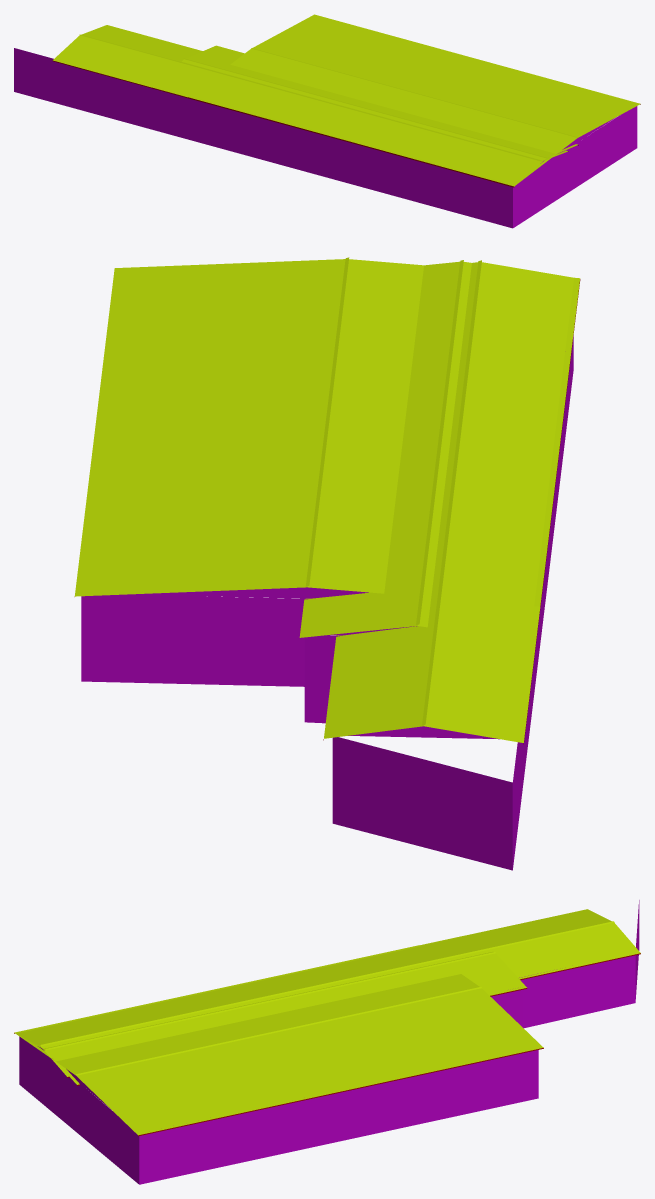
Rendered from niv_3.glb.
3 renders of one model, top to bottom at view 1: azimuth 30°, elevation 25°; view 2: azimuth 150°, elevation 25°; view 3: azimuth 270°, elevation 25°, orthographic. The views are drawn at different scales.
Visible parts, largest first — view 1: niv_3; view 2: niv_3; view 3: niv_3.
Boxes of the visible parts, box(x1,y1,x2,y2) form: niv_3: box(14, 14, 640, 228); niv_3: box(74, 257, 580, 870); niv_3: box(14, 900, 640, 1184).
Bounding box in the file's own units: 62.53 × 7.49 × 70.21.
